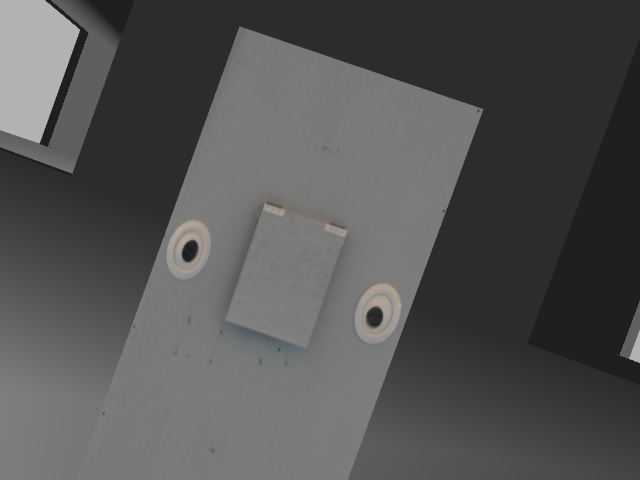facade: (160, 192, 404, 354)
